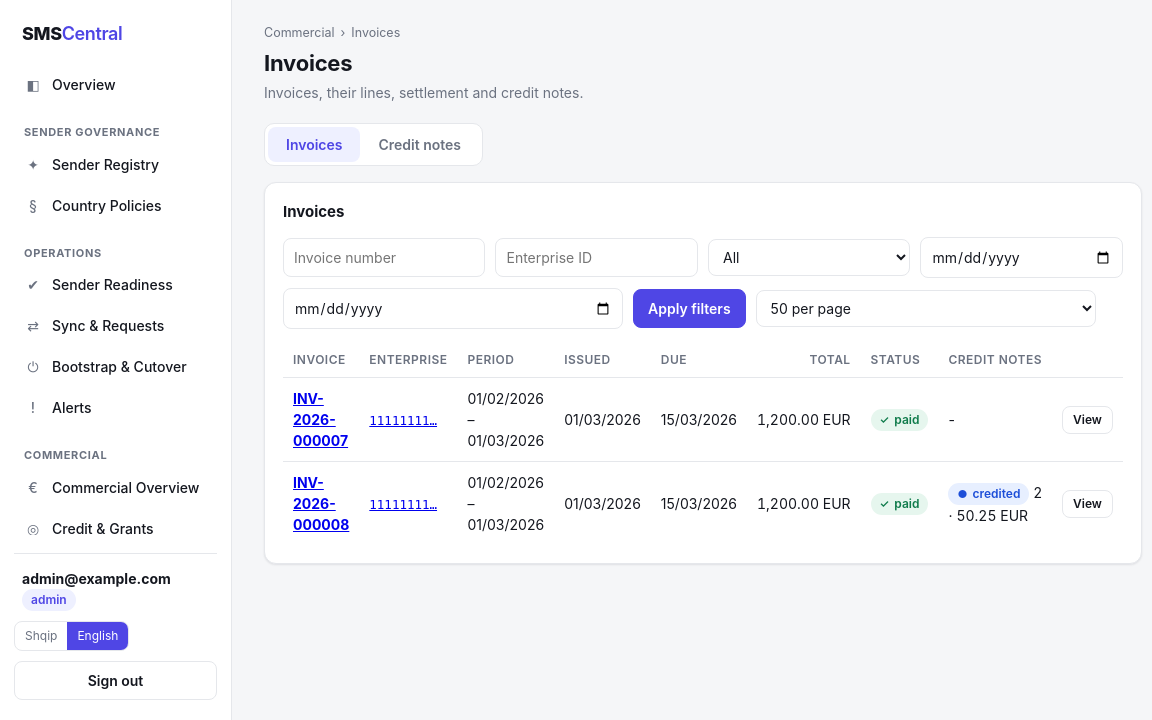
Scenario: invoice filters (server-side) — Central › 5 an inverted date range shows a field error and is never sent or silently swapped
The image size is (1152, 720).
Check: the navigation bar named "Main navigation" is shown, box [14,65,217,535]
Check: the text "INV-2026-000007" is shown, box [293,390,348,449]
Type "2026-03-10" into the date field labelled "Issued from". click: (1022, 258)
box: [920,237,1123,278]
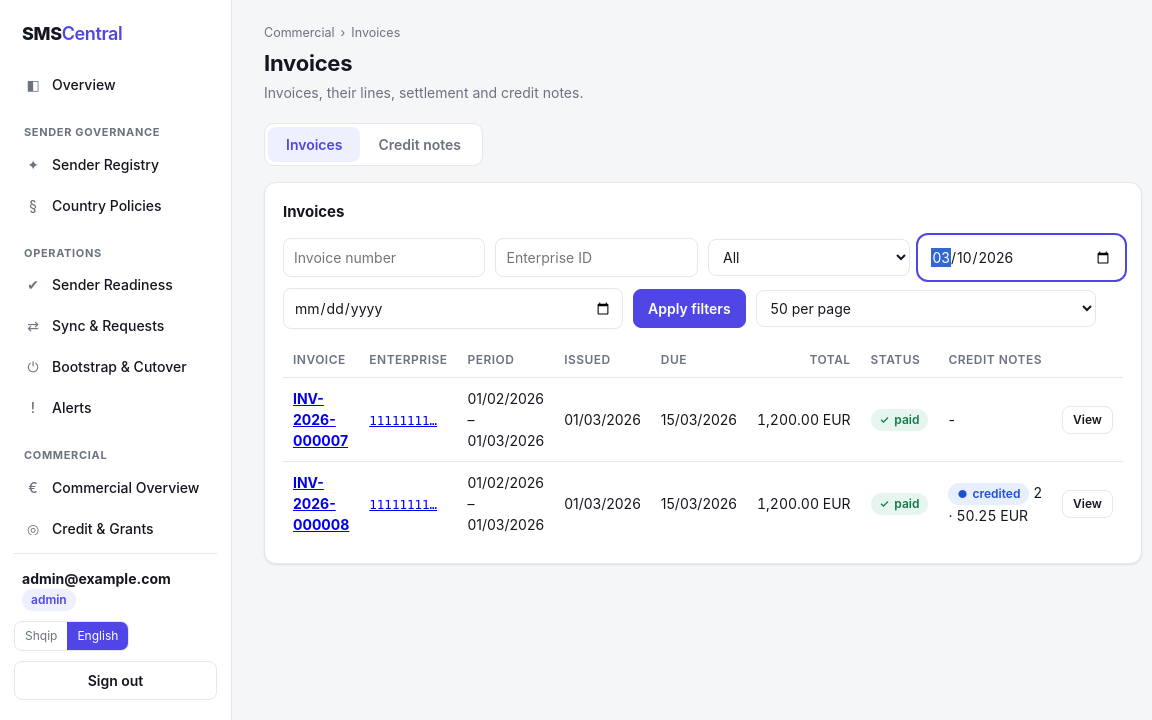
Type "2026-03-01" into the date field labelled "Issued to". click: (453, 309)
box: [283,288,623,329]
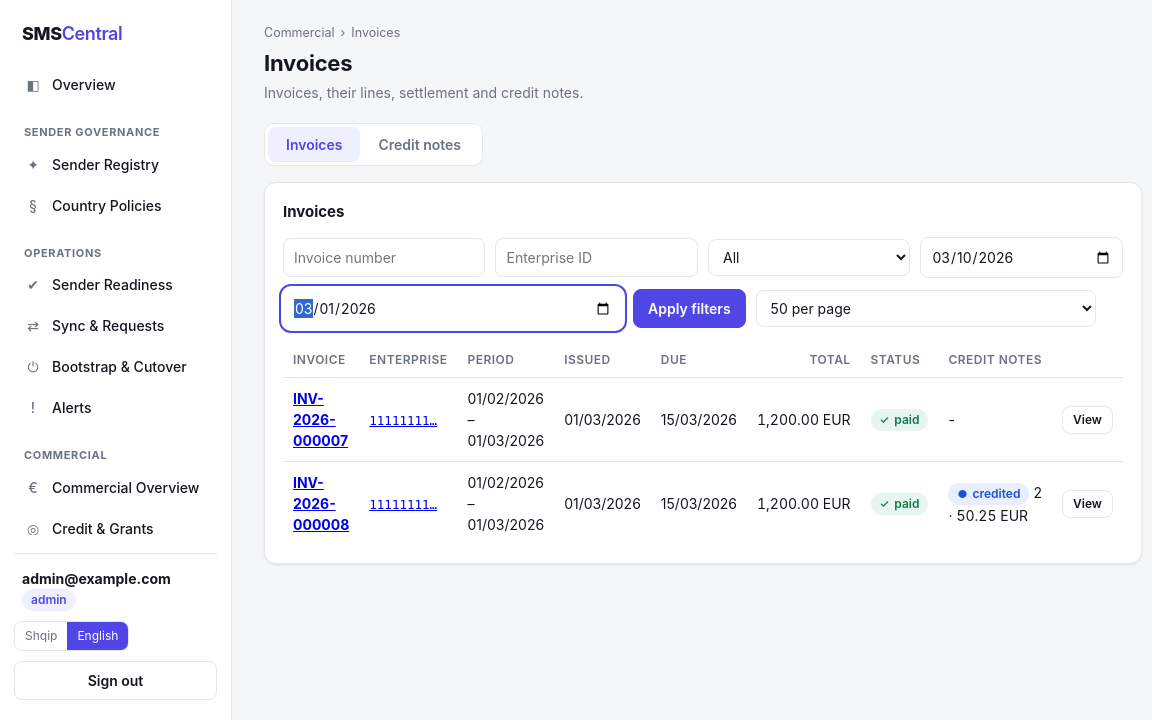
Click the button "Apply filters". click: (689, 309)
box: [633,289,746,328]
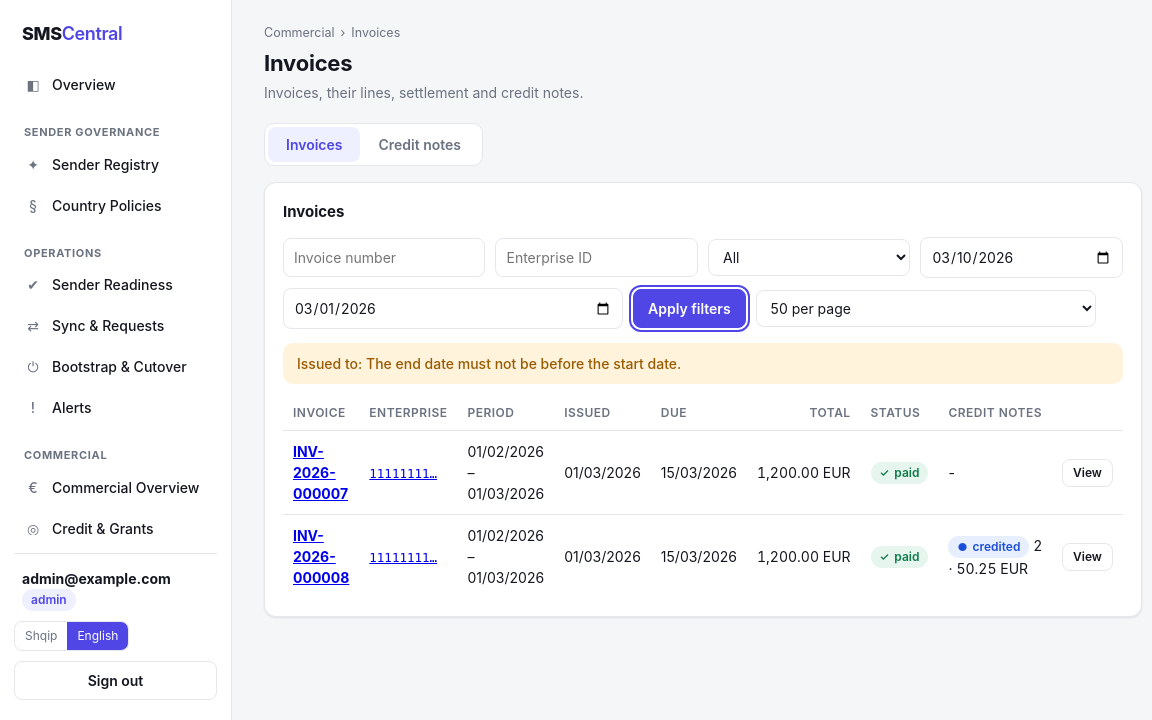
Check: the text "Issued to: The end date must not be before the start date." is shown, box [297,353,681,374]
